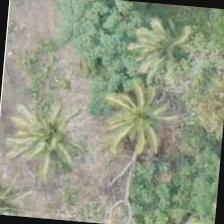Kelapa_Sawit: (91, 64, 189, 162), (0, 87, 96, 186), (114, 0, 210, 93), (0, 159, 50, 219)
